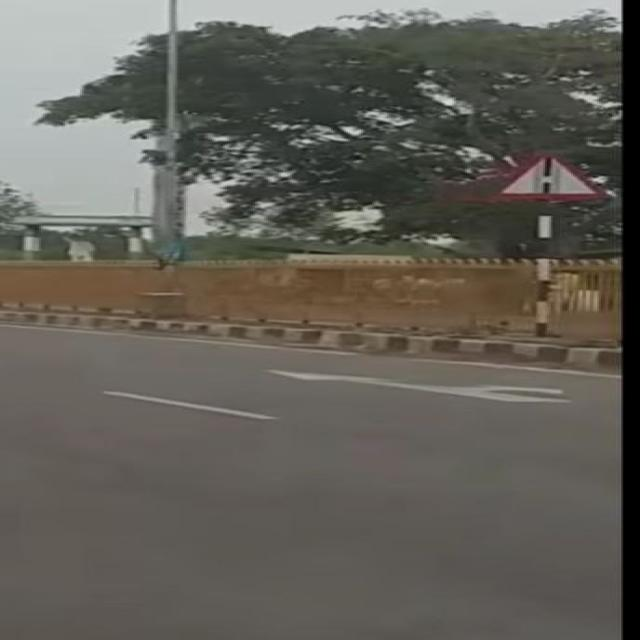gap_in_median: (494, 151, 599, 203)
